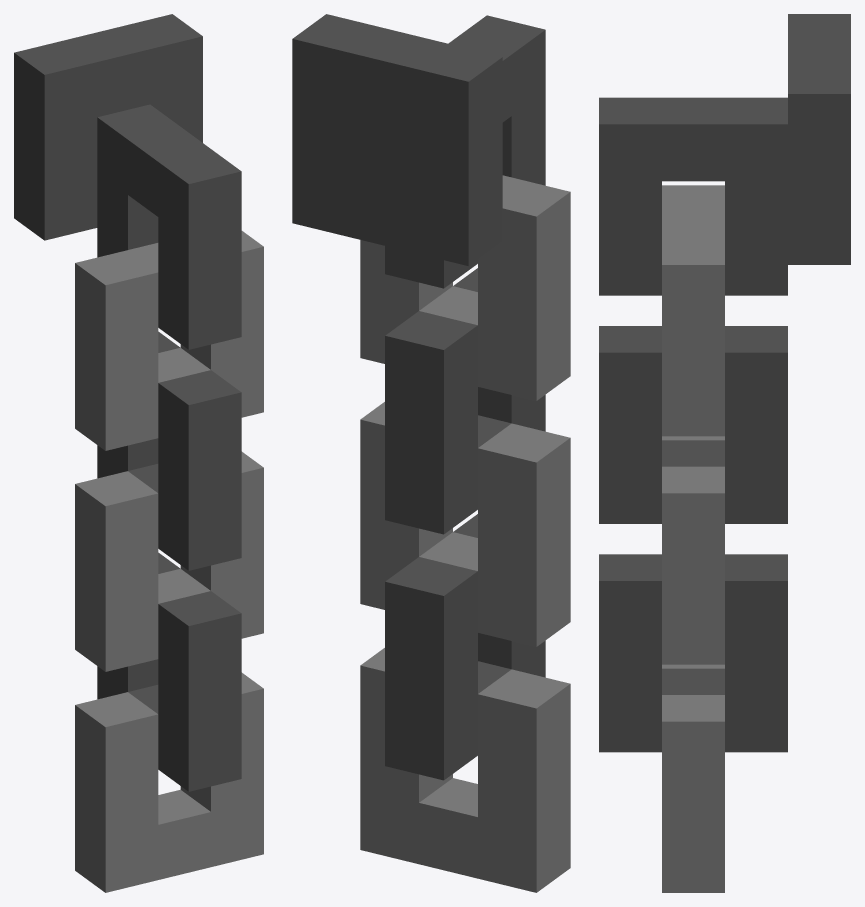
File: chain_1.obj
The picture shows the model from 3 angles, left to right: view 1: azimuth 30°, elevation 25°; view 2: azimuth 150°, elevation 25°; view 3: azimuth 270°, elevation 25°; orthographic projection. The views are drawn at different scales.
Size of the model in its own units: 0.3 by 1.4 by 0.4.
1 material, 1 textured.
